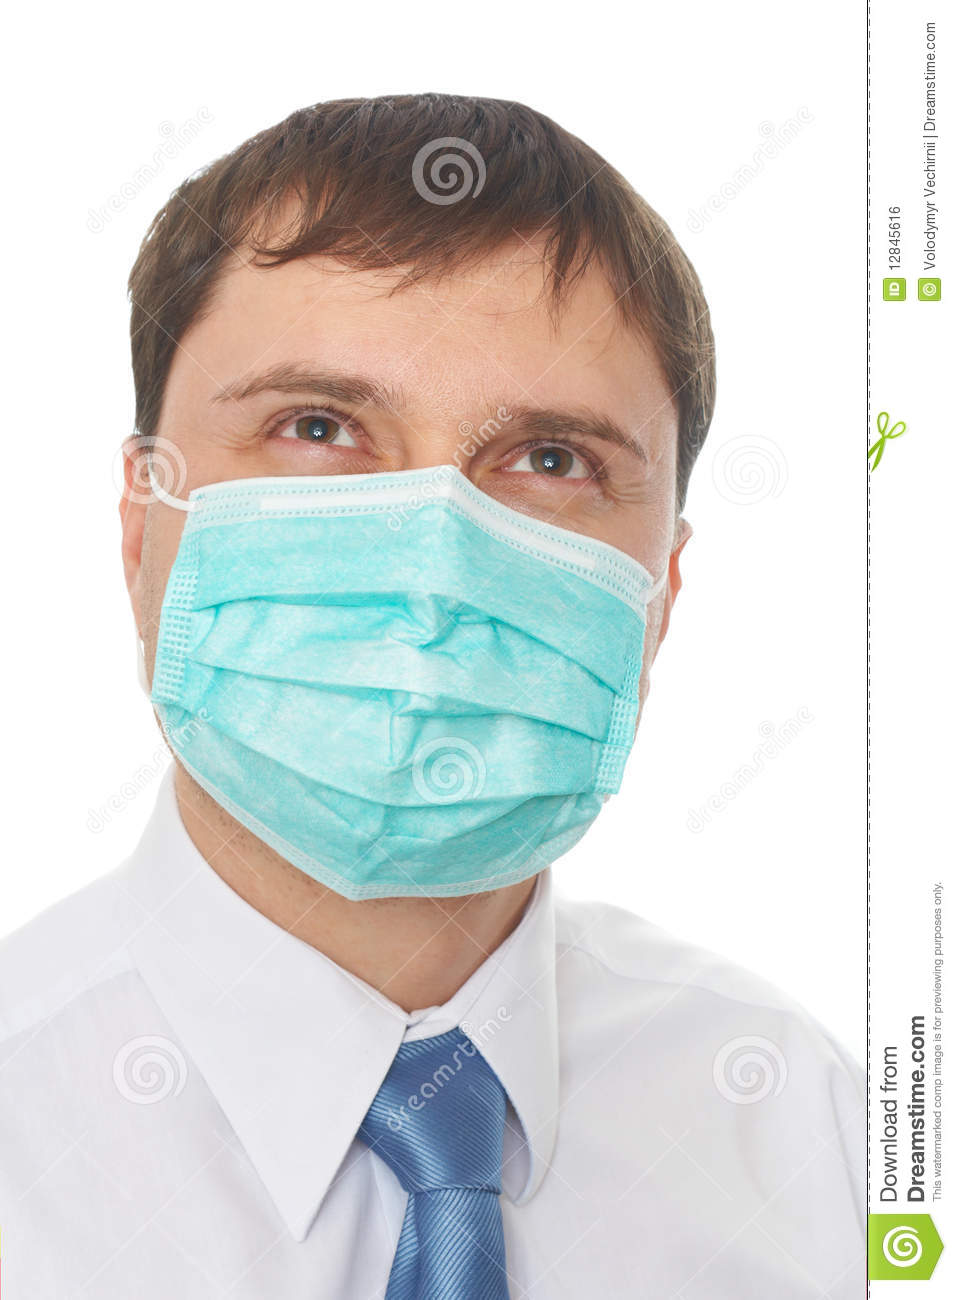mask: (148, 472, 648, 902)
